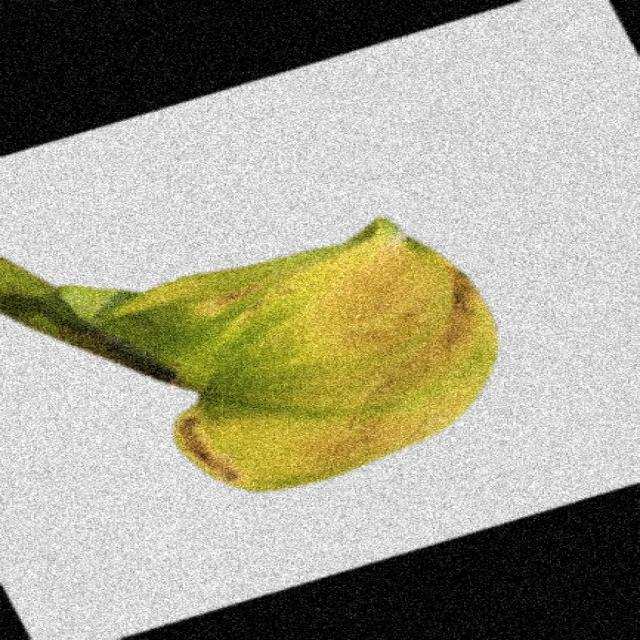daun berpenyakit kuning: (3, 218, 497, 491)
